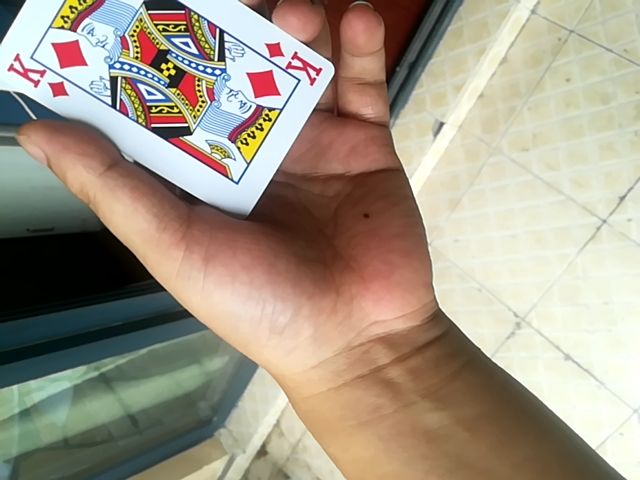fk k: (0, 0, 339, 219)
